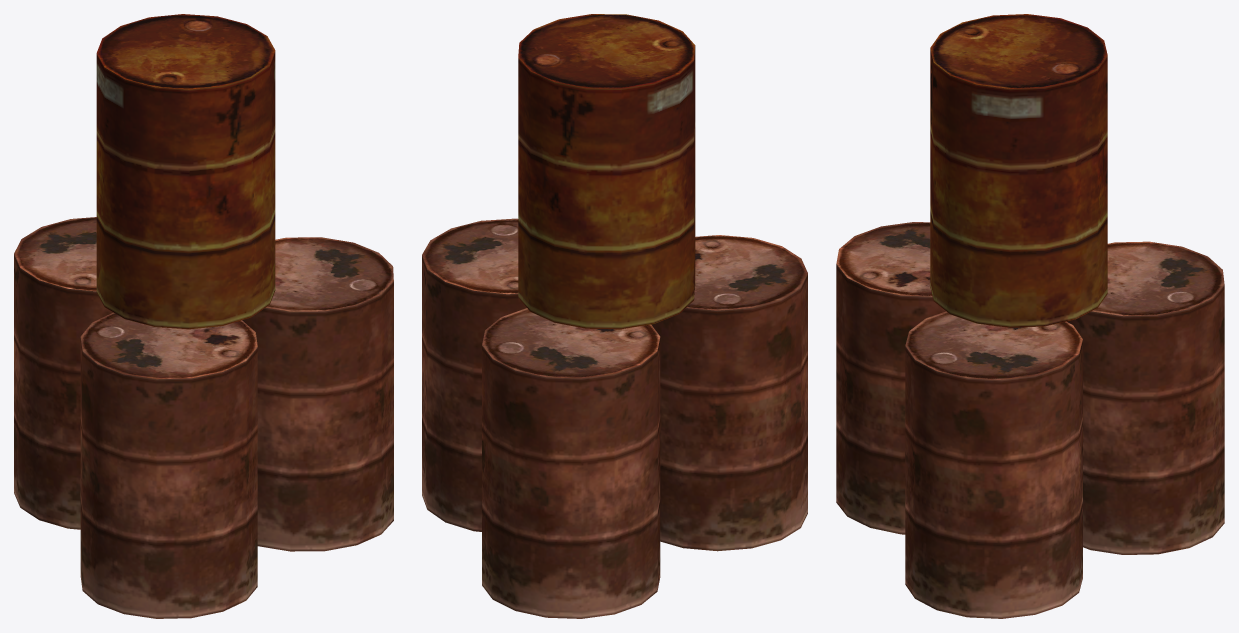
File: od_stack_of_four_upright_4.fbx
3 renders of one model, left to right at view 1: azimuth 30°, elevation 25°; view 2: azimuth 150°, elevation 25°; view 3: azimuth 270°, elevation 25°, orthographic.
Visible parts, largest first — view 1: mesh_0, mesh_1; view 2: mesh_0, mesh_1; view 3: mesh_0, mesh_1.
Part boxes in pixels (x1,y1,x2,y2): mesh_0: (14,217,393,618); mesh_1: (96,14,275,329); mesh_0: (422,218,807,618); mesh_1: (518,14,695,329); mesh_0: (836,222,1224,618); mesh_1: (930,14,1107,327).
Size of the model in its own units: 125 by 177 by 130.
Materials: 2 (2 with a texture image).
